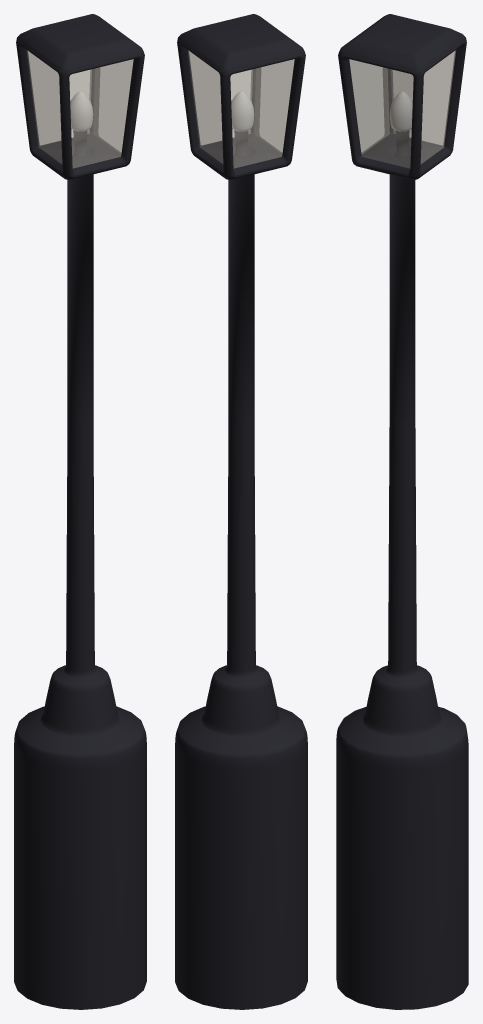
Rendered from Streed_Lighter.fbx.
3 views of the same model, side by side, from view 1: azimuth 30°, elevation 25°; view 2: azimuth 210°, elevation 25°; view 3: azimuth 330°, elevation 25° (orthographic).
Parts seen in each view (by area): view 1: Streed_Lighter; view 2: Streed_Lighter; view 3: Streed_Lighter.
Part boxes in pixels (<box>): Streed_Lighter: <box>14,14,146,1009</box>; Streed_Lighter: <box>175,14,307,1009</box>; Streed_Lighter: <box>336,14,468,1009</box>.
Bounding box in the file's own units: 41.74 × 41.74 × 331.
